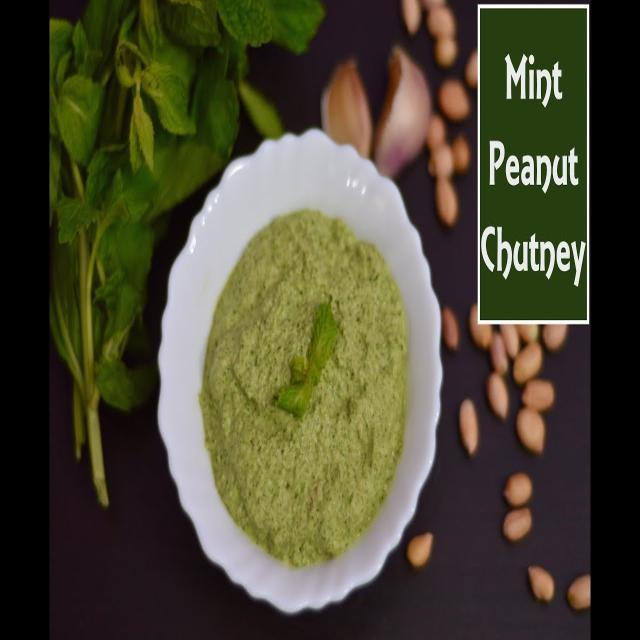puthina chutney: (193, 188, 407, 571)
